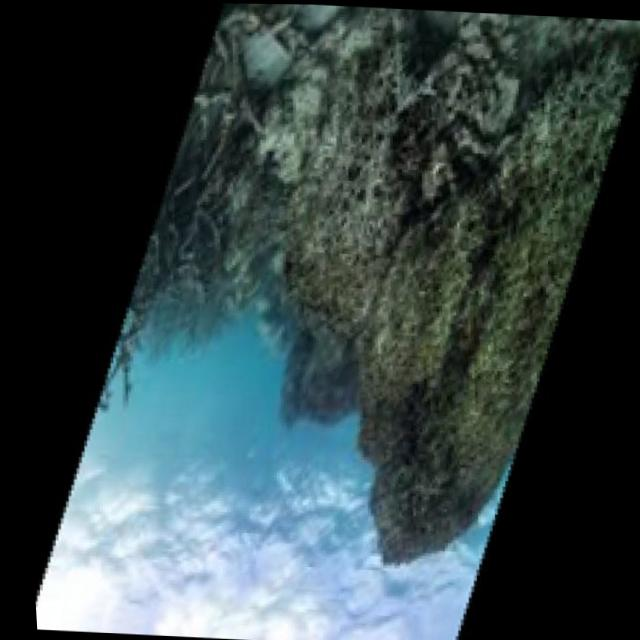Dead Coral: (247, 3, 535, 317), (70, 21, 274, 409), (276, 438, 279, 451)
